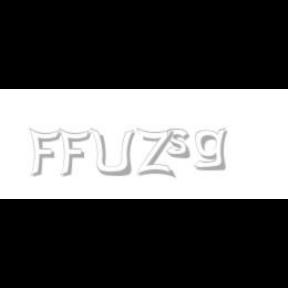F: (28, 128, 60, 178), (58, 128, 90, 178)
U: (90, 128, 134, 178)
Z: (136, 128, 174, 178)
g: (195, 128, 232, 171)
s: (167, 128, 195, 160)
